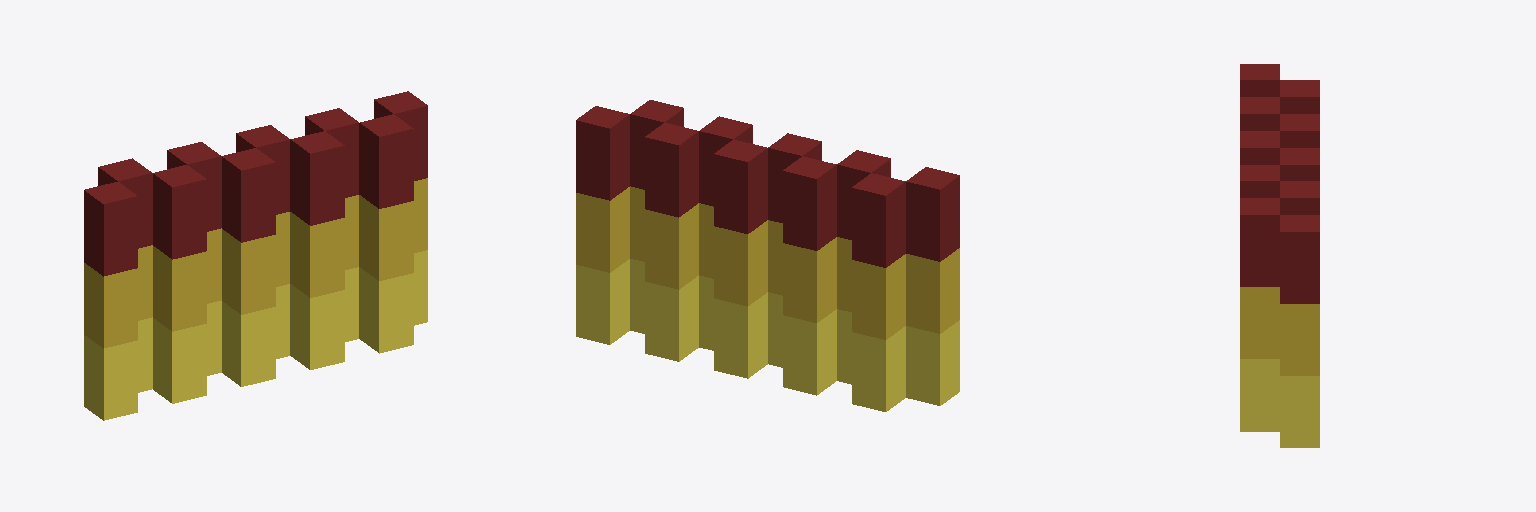
3 renders of one model, left to right at view 1: azimuth 30°, elevation 25°; view 2: azimuth 150°, elevation 25°; view 3: azimuth 270°, elevation 25°, orthographic.
Visible parts, largest first — view 1: S&W Stack; view 2: S&W Stack; view 3: S&W Stack.
Boxes of the visible parts, x1=… form: S&W Stack: x1=84, y1=91, x2=427, y2=420; S&W Stack: x1=576, y1=100, x2=959, y2=411; S&W Stack: x1=1240, y1=64, x2=1319, y2=447.
Size of the model in its own units: 1 by 0.6 by 0.2.
Materials: 1 (1 with a texture image).